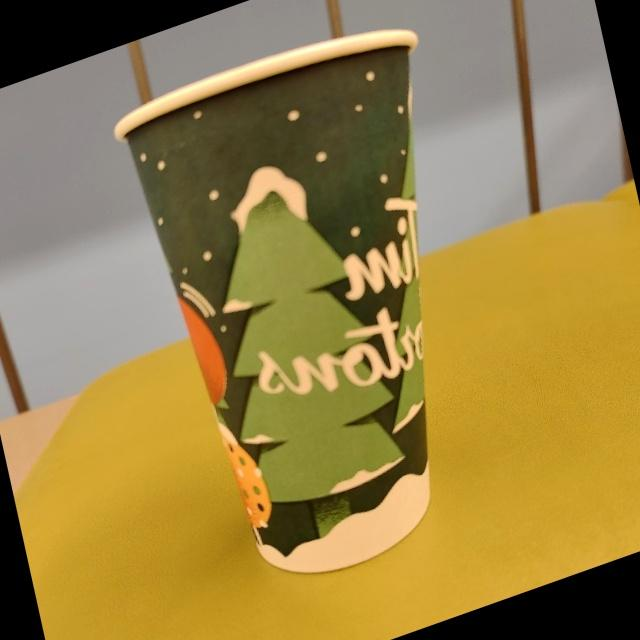Timmies: (96, 0, 527, 622)
